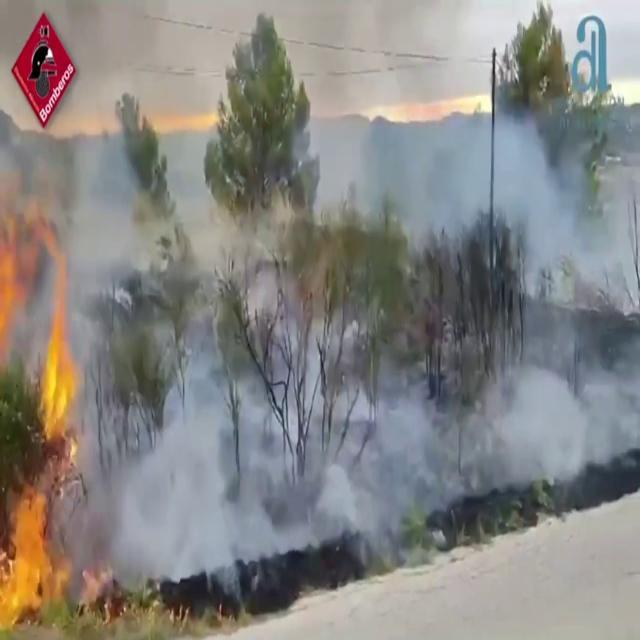Fire: (0, 167, 94, 631)
Smoke: (67, 295, 636, 593)
